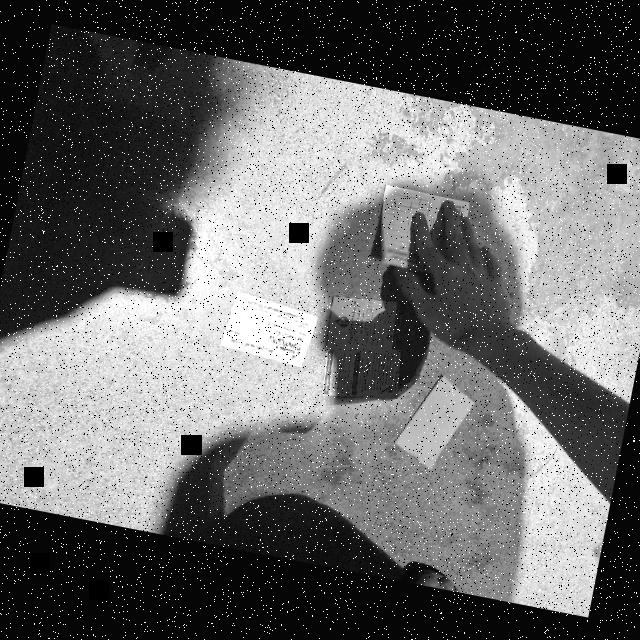scrap_paper: (302, 273, 426, 427), (366, 177, 486, 290), (212, 281, 320, 379), (393, 362, 483, 478)
